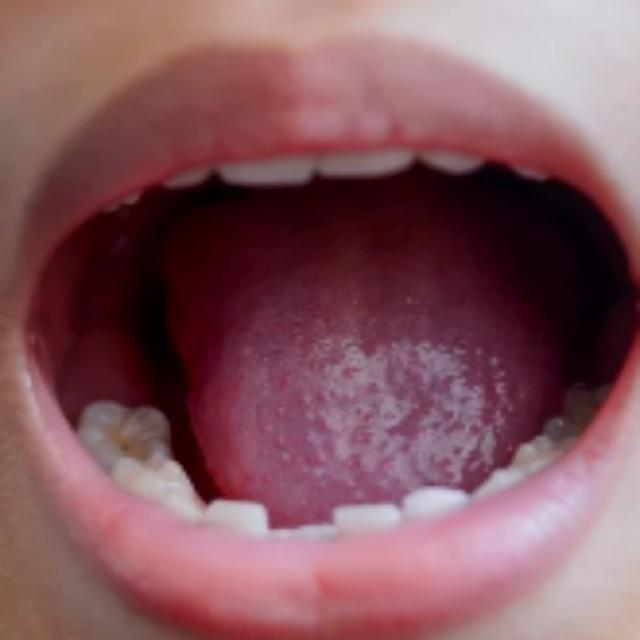processing_area: (40, 243, 568, 523)
